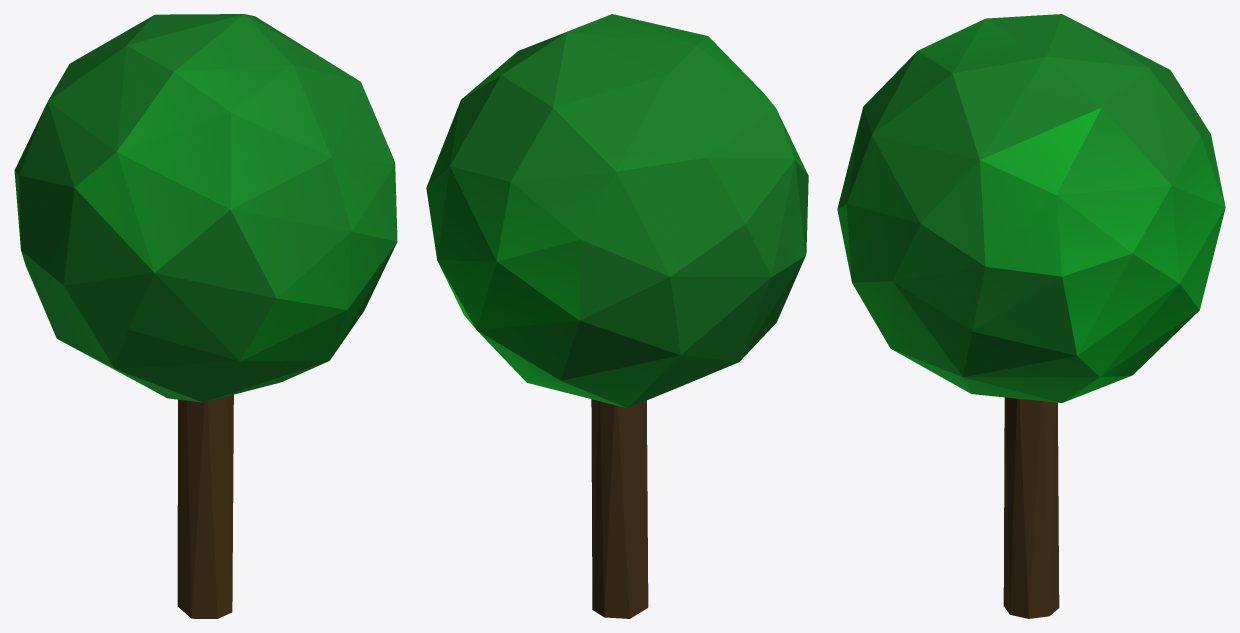
The model's file is Tree.fbx.
The picture shows the model from 3 angles, left to right: view 1: azimuth 30°, elevation 25°; view 2: azimuth 150°, elevation 25°; view 3: azimuth 270°, elevation 25°; orthographic projection.
Visible parts, largest first — view 1: Icosphere; view 2: Icosphere; view 3: Icosphere.
Part boxes in pixels (box(x1,y1,x2,y2)): Icosphere: box(14, 14, 397, 618); Icosphere: box(426, 14, 808, 618); Icosphere: box(837, 14, 1225, 618).
Bounding box in the file's own units: 4272 × 6951 × 4271.
